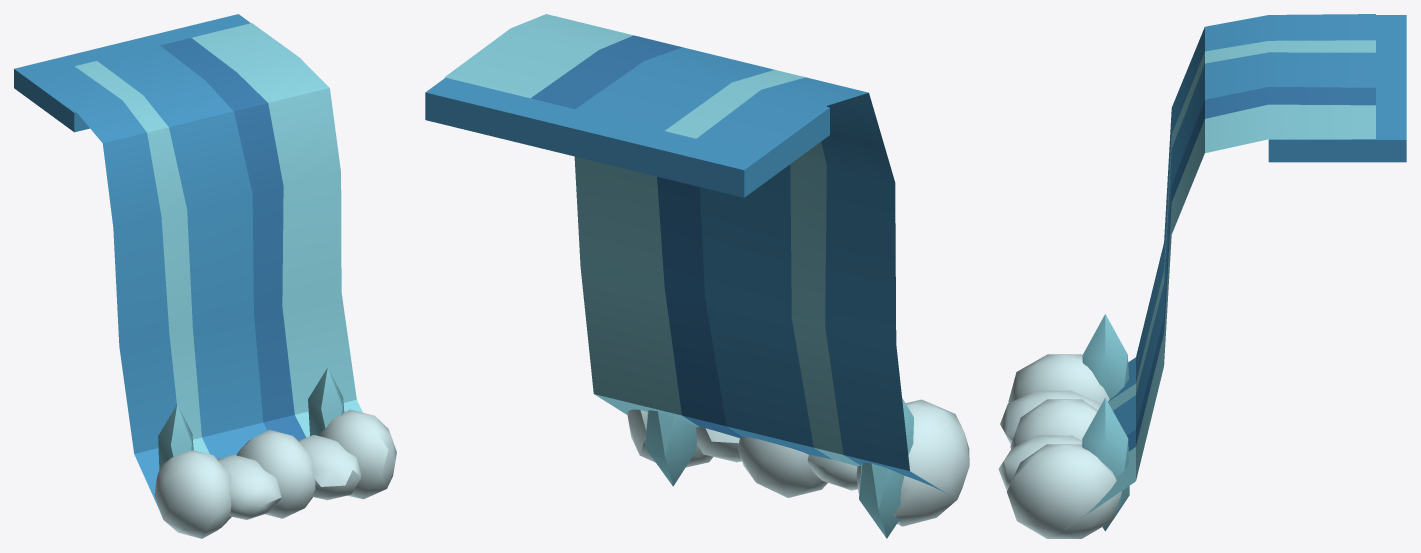
File: waterfall_small_01.glb
The picture shows the model from 3 angles, left to right: view 1: azimuth 30°, elevation 25°; view 2: azimuth 150°, elevation 25°; view 3: azimuth 270°, elevation 25°; orthographic projection. The views are drawn at different scales.
Visible parts, largest first — view 1: waterfall_small_01; view 2: waterfall_small_01; view 3: waterfall_small_01.
Part boxes in pixels (x1,y1,x2,y2): waterfall_small_01: (14,14,396,538); waterfall_small_01: (425,14,969,538); waterfall_small_01: (998,14,1406,538).
Bounding box in the file's own units: 0.597 × 0.9 × 0.7994.
